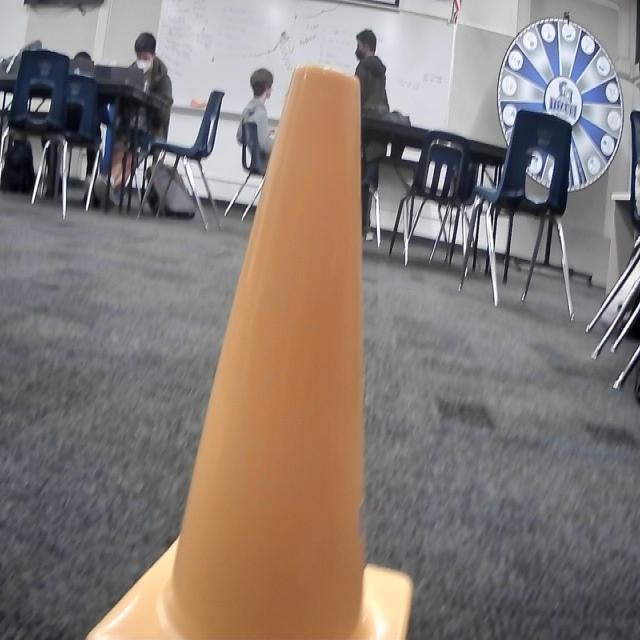cone: (85, 63, 416, 640)
